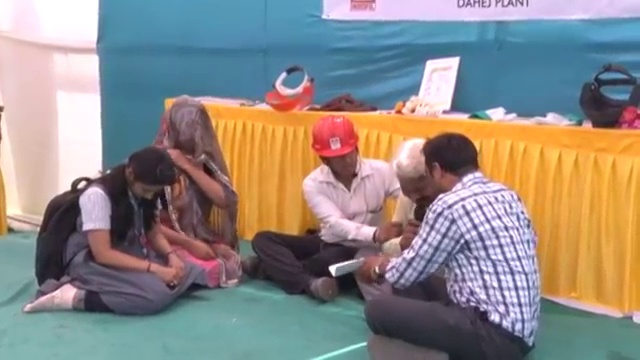helmet: (307, 115, 360, 160)
helmet_off: (157, 100, 217, 164), (419, 134, 479, 194), (391, 138, 442, 207), (120, 147, 177, 203)
helmet_on: (309, 114, 363, 180)
person: (364, 133, 541, 360), (25, 148, 204, 317), (248, 113, 402, 298), (144, 98, 239, 290), (353, 137, 442, 303)
